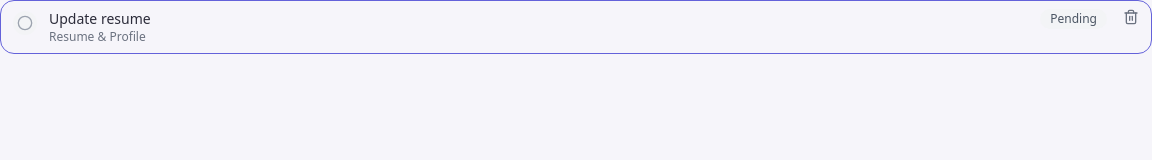
Test: MilestoneList › clicking trash shows inline Delete/Cancel confirm
This screenshot has width=1152, height=160.
Step 1. Click the button named "delete milestone update resume" → {"x": 1131, "y": 17}, box [1123,9,1139,25]
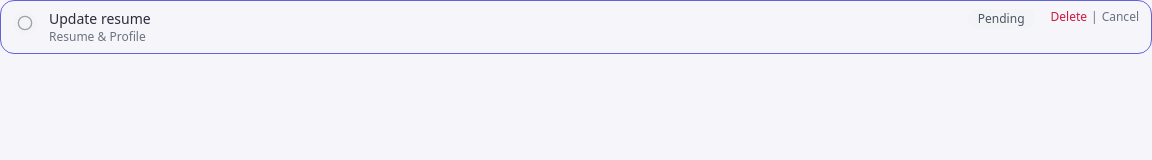
Check: the button with aria-label "confirm delete" is shown, box [1050,9,1087,25]
Check: the button with aria-label "cancel delete" is shown, box [1102,9,1139,25]
